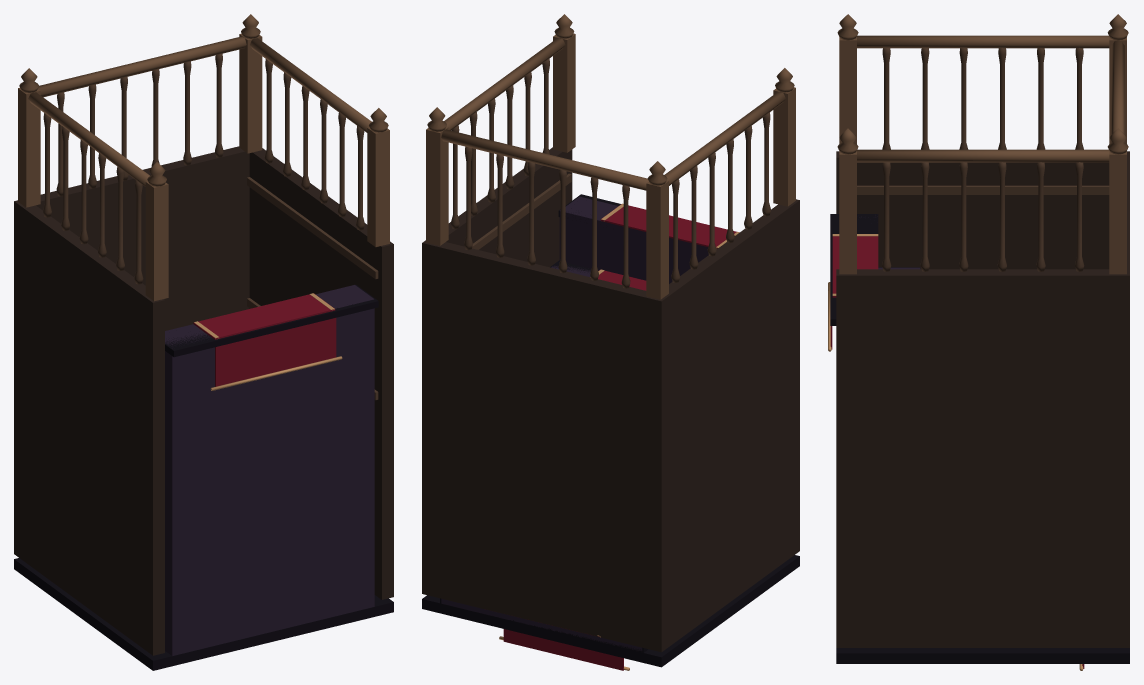
The model's file is stairs_down.glb.
3 renders of one model, left to right at view 1: azimuth 30°, elevation 25°; view 2: azimuth 150°, elevation 25°; view 3: azimuth 270°, elevation 25°, orthographic. The views are drawn at different scales.
Parts seen in each view (by area): view 1: stairs_down; view 2: stairs_down; view 3: stairs_down.
Boxes of the visible parts, box(x1,y1,x2,y2) form: stairs_down: box(14, 14, 393, 670); stairs_down: box(422, 14, 799, 670); stairs_down: box(828, 14, 1129, 670).
Size of the model in its own units: 1 by 2.13 by 1.03.
